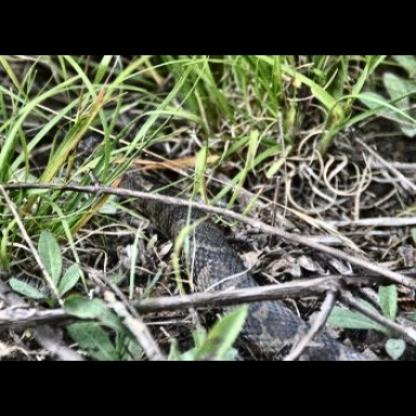Snake: (121, 175, 345, 356)
